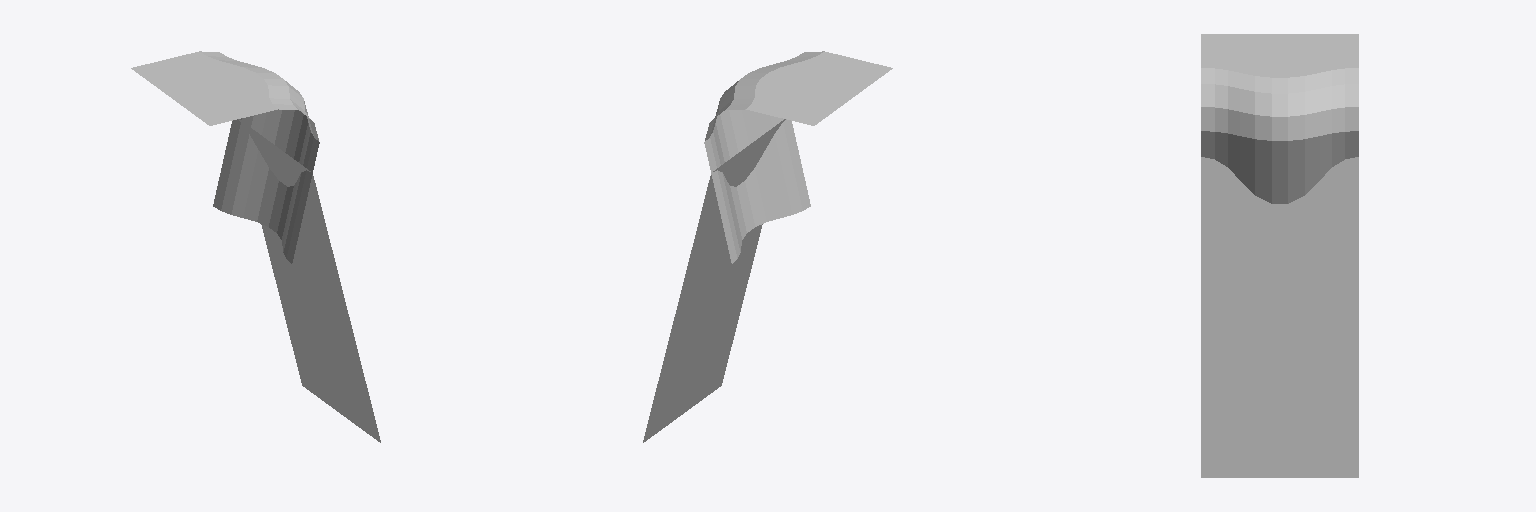
File: Terrain_Cliff_Side.obj
3 views of the same model, side by side, from view 1: azimuth 30°, elevation 25°; view 2: azimuth 150°, elevation 25°; view 3: azimuth 270°, elevation 25° (orthographic).
Parts seen in each view (by area): view 1: object2, object1; view 2: object2, object1; view 3: object1, object2.
Part boxes in pixels (bbox=[...]): object2: bbox=[131, 51, 319, 263]; object1: bbox=[238, 119, 380, 442]; object2: bbox=[704, 51, 892, 263]; object1: bbox=[643, 119, 785, 442]; object1: bbox=[1201, 157, 1358, 477]; object2: bbox=[1201, 34, 1358, 203].
Size of the model in its own units: 1.25 by 2.5 by 1.